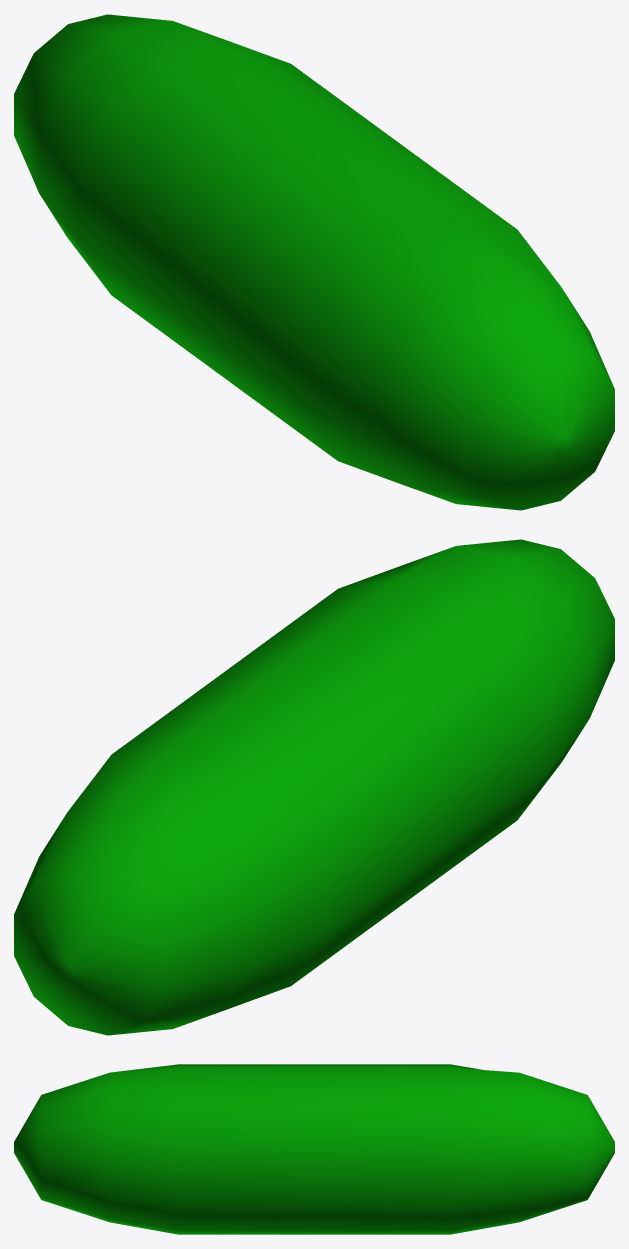
File: gasbag_aux_medium_round.glb
The picture shows the model from 3 angles, top to bottom: view 1: azimuth 30°, elevation 25°; view 2: azimuth 150°, elevation 25°; view 3: azimuth 270°, elevation 25°; orthographic projection. The views are drawn at different scales.
Parts seen in each view (by area): view 1: Cylinder; view 2: Cylinder; view 3: Cylinder.
Part boxes in pixels (x1,y1,x2,y2): Cylinder: (14,14,614,510); Cylinder: (14,539,614,1035); Cylinder: (14,1064,614,1234).
Bounding box in the file's own units: 5.67 × 5.4 × 19.94.
